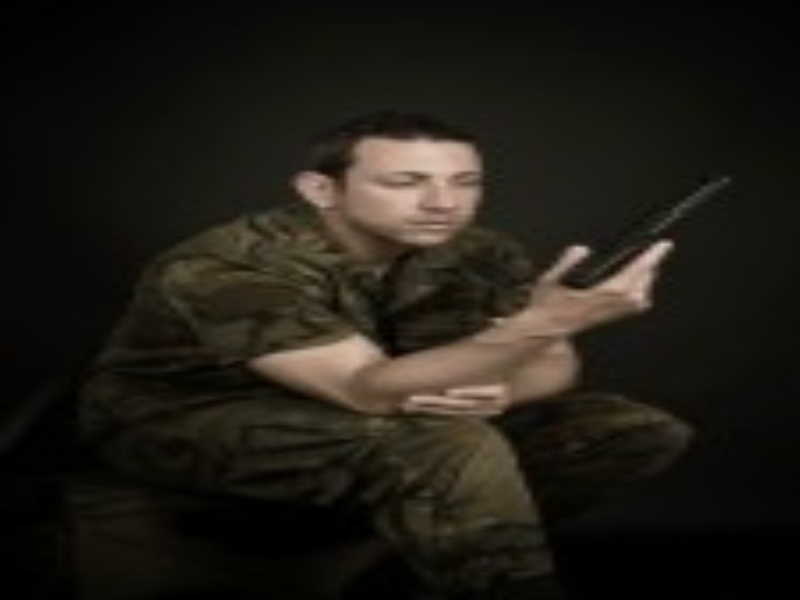gun: (558, 167, 743, 303)
